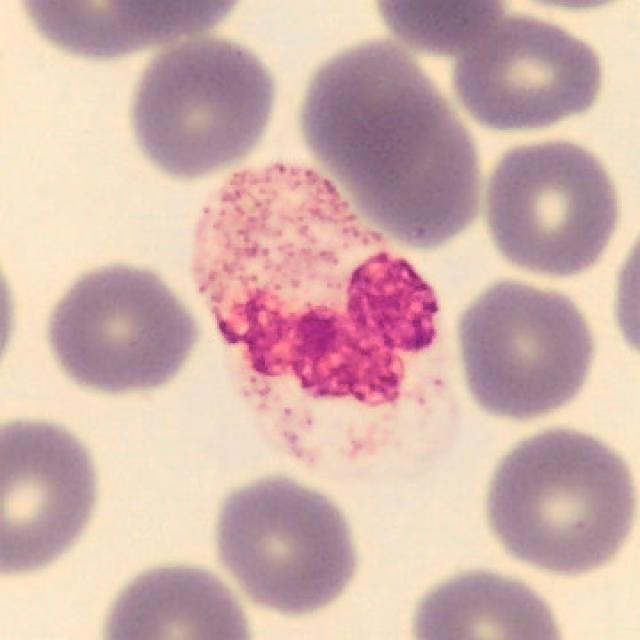Neutrofilo segmentado: (192, 162, 460, 482)
